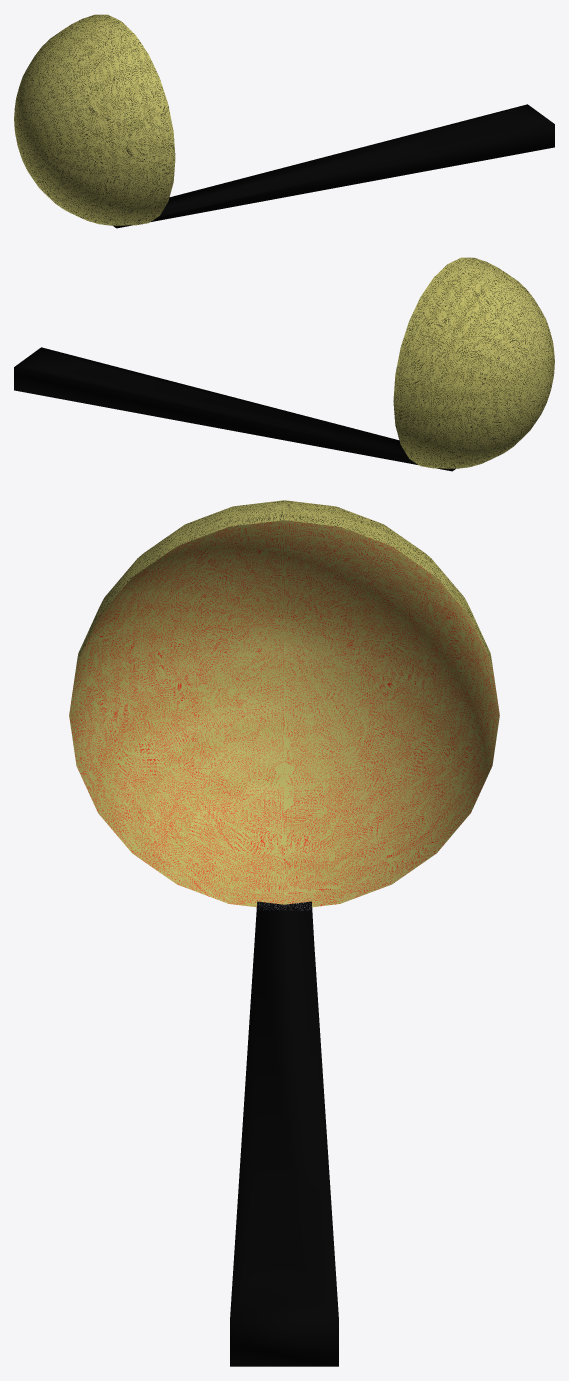
Rendered from ladle_02_origin_gt_4.dae.
The picture shows the model from 3 angles, top to bottom: view 1: azimuth 30°, elevation 25°; view 2: azimuth 150°, elevation 25°; view 3: azimuth 270°, elevation 25°; orthographic projection. The views are drawn at different scales.
Visible parts, largest first — view 1: lado (×2); view 2: lado (×2); view 3: lado (×3).
Part boxes in pixels (<box>): lado (×2): <box>14,14,554,228</box>; lado (×2): <box>14,257,554,471</box>; lado (×3): <box>69,500,499,1366</box>.
Bounding box in the file's own units: 6.66 × 2.42 × 2.71.
Materials: 4 (2 with a texture image).
